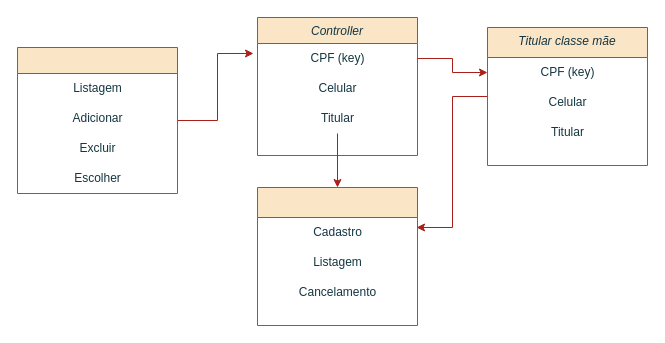
Some shapes in this 665 by 343 pixel diagram are drawn without their labels. Here are the shapes that lost their labels. From the top down, the box of each, then its label:
(16, 46, 178, 194): Repository
(256, 186, 418, 326): Menu
